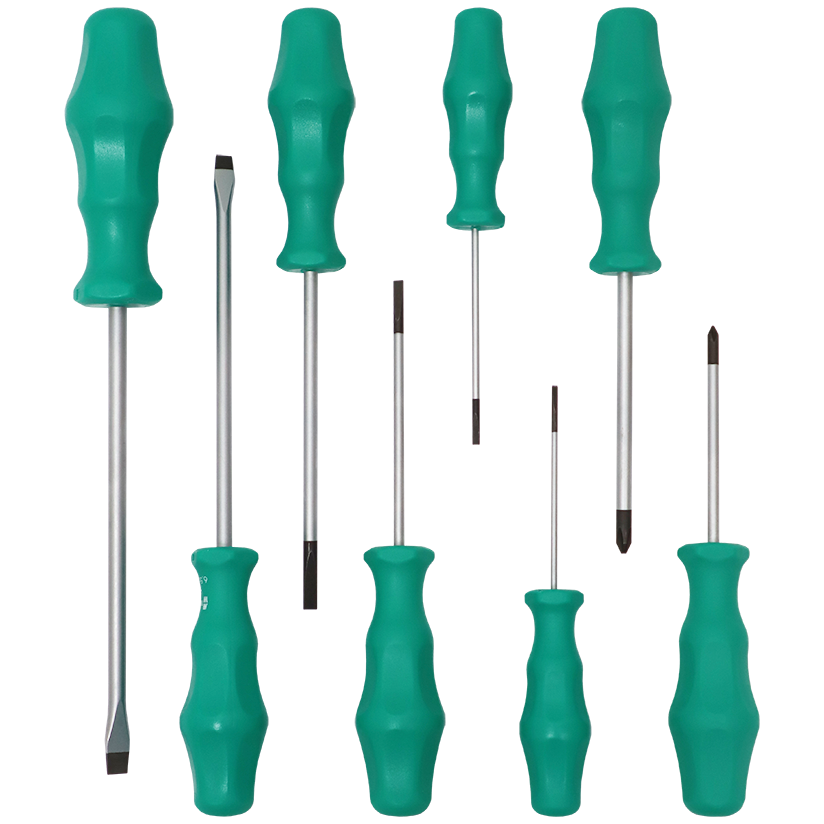screwdriver: (61, 7, 175, 780), (176, 151, 270, 814), (267, 7, 356, 616), (349, 281, 448, 815), (581, 4, 673, 553), (665, 324, 763, 818), (435, 6, 514, 447), (519, 385, 591, 817)
